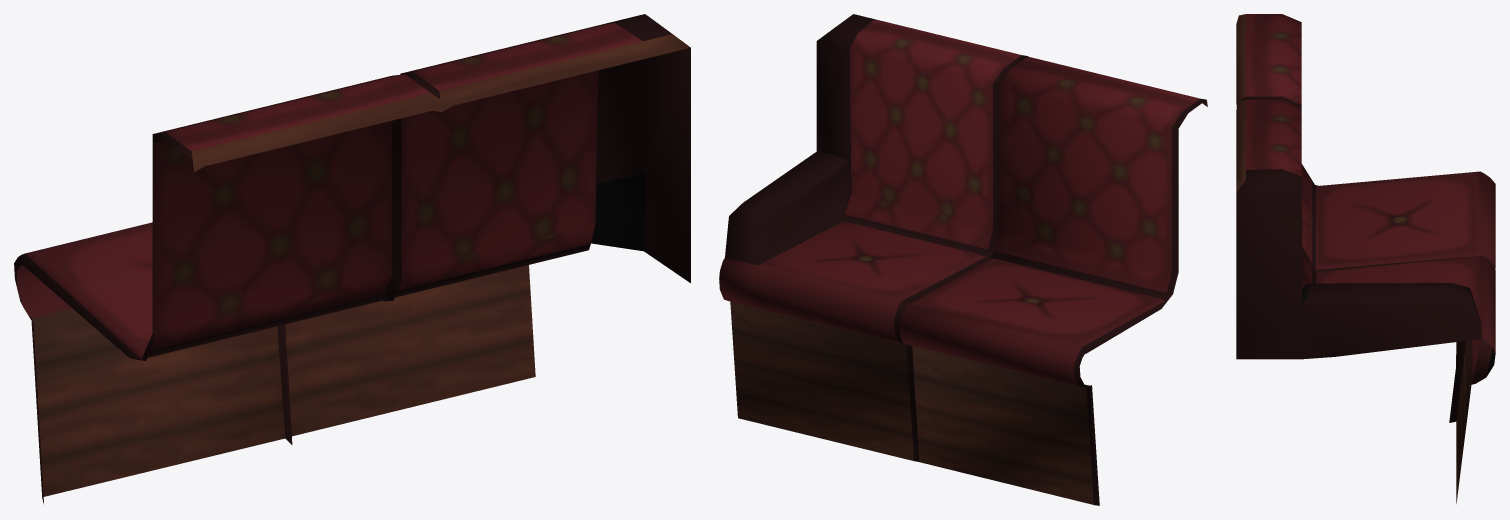
File: trainCar.glb
3 views of the same model, side by side, from view 1: azimuth 30°, elevation 25°; view 2: azimuth 150°, elevation 25°; view 3: azimuth 270°, elevation 25° (orthographic). The views are drawn at different scales.
Parts seen in each view (by area): view 1: Sofa; view 2: Sofa; view 3: Sofa.
Boxes of the visible parts, x1=… form: Sofa: x1=14, y1=14, x2=690, y2=503; Sofa: x1=719, y1=14, x2=1207, y2=505; Sofa: x1=1236, y1=14, x2=1495, y2=503.
Bounding box in the file's own units: 2.51 × 2.2 × 1.59.
1 material, 1 textured.
